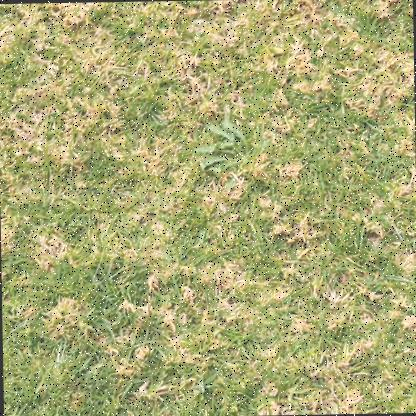Weeds: (191, 121, 271, 190)
